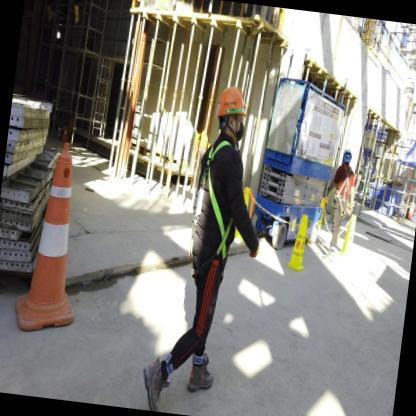Helmet: (211, 80, 256, 121)
safety-shoe: (132, 352, 174, 412), (183, 354, 222, 401)
